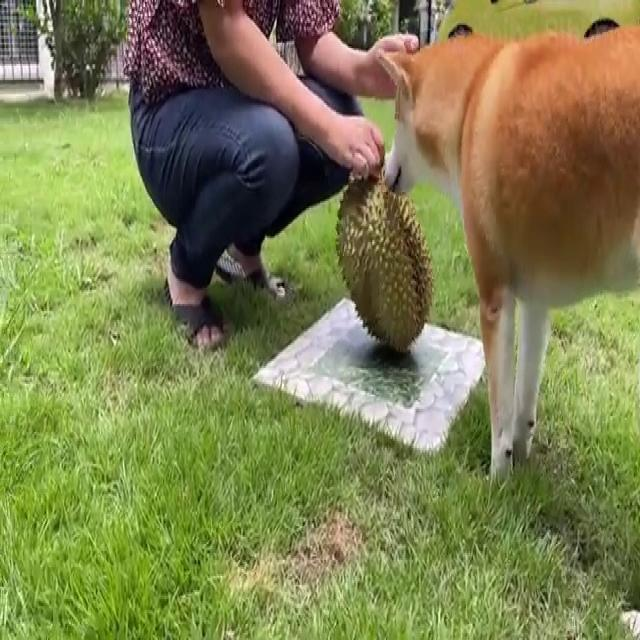durian: (334, 161, 436, 365)
